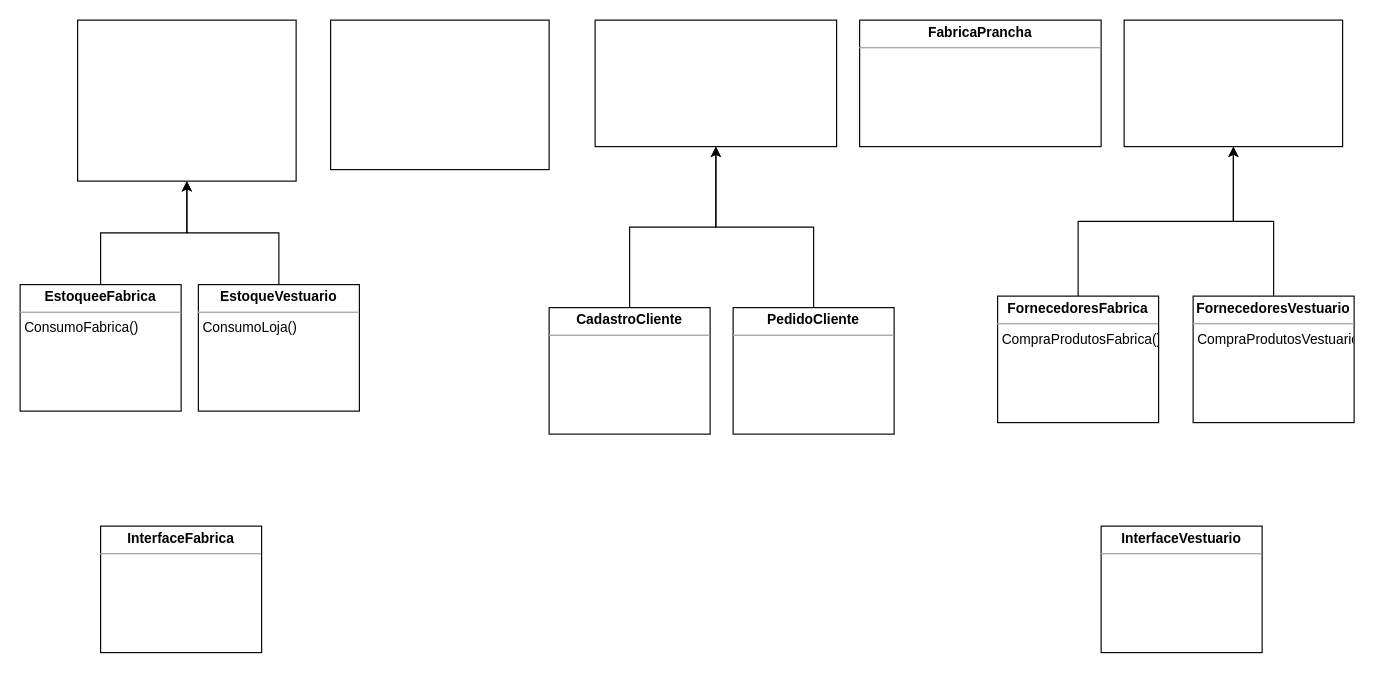
Some shapes in this 1387 by 673 pixel diagram are drawn without their labels. Here are the shapes that lost their labels. From the top down, the centre of each, then its label:
At (186,100): "Estoque".
At (439,94): "DevSurfShop".
At (715,83): "Cliente".
At (1233,83): "Fornecedores".
